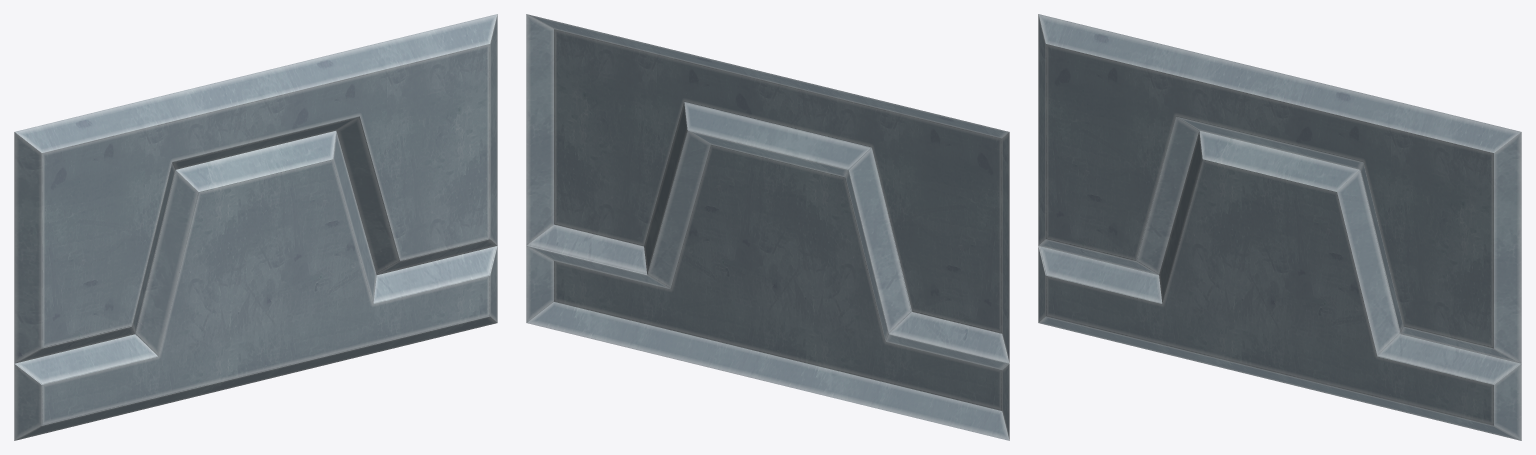
The model's file is WallA.fbx.
The picture shows the model from 3 angles, left to right: view 1: azimuth 30°, elevation 25°; view 2: azimuth 150°, elevation 25°; view 3: azimuth 330°, elevation 25°; orthographic projection.
Visible parts, largest first — view 1: wallA01; view 2: wallA01; view 3: wallA01.
Part boxes in pixels (x1,y1,x2,y2): wallA01: (14,14,497,440); wallA01: (526,14,1009,440); wallA01: (1038,14,1521,440).
Size of the model in its own units: 2 by 1.22 by 0.0724.
